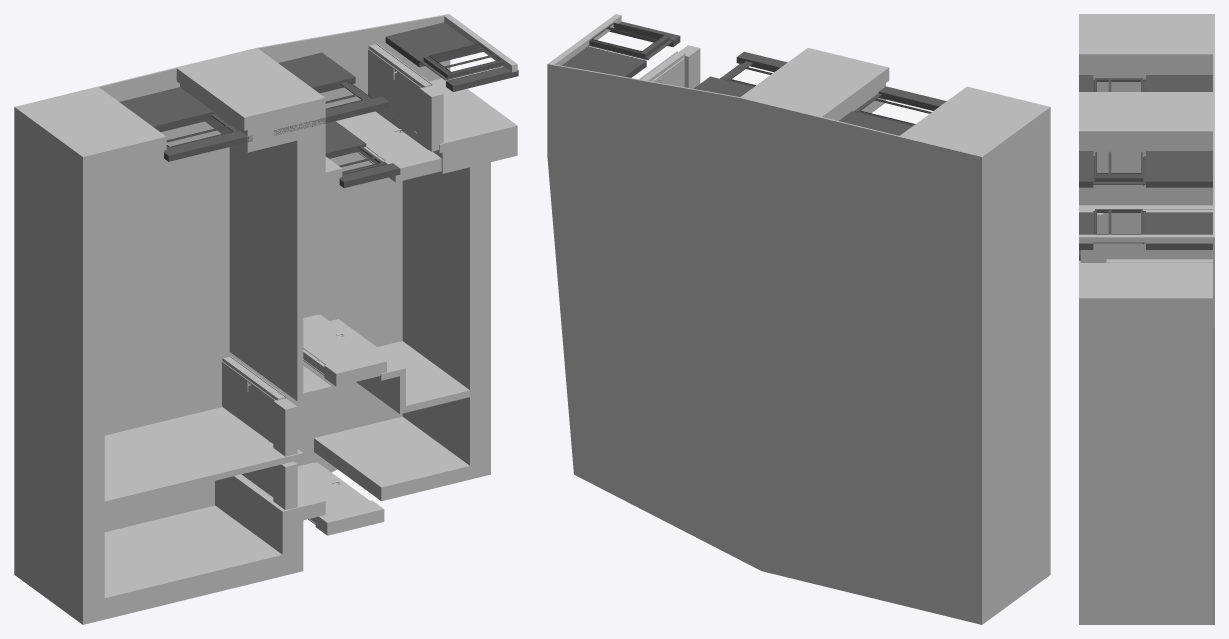
The picture shows the model from 3 angles, left to right: view 1: azimuth 30°, elevation 25°; view 2: azimuth 150°, elevation 25°; view 3: azimuth 270°, elevation 25°; orthographic projection.
Visible parts, largest first — view 1: geometry_3, geometry_4, geometry_0, geometry_2, Door_1, Door_2, Door_4, Door_3, geometry_25, geometry_28, Door_5, geometry_31 (+14 smaller); view 2: geometry_4, geometry_3, geometry_2, geometry_25, geometry_23, Door_1, geometry_28, geometry_1, geometry_26, geometry_10, geometry_31; view 3: geometry_0, geometry_2, geometry_3, Door_1, geometry_31, geometry_25, geometry_1, geometry_4, geometry_28, geometry_29, geometry_23, geometry_10 (+4 smaller).
Part boxes in pixels (left/top/right/bottom): geometry_3: left=15, top=87, right=325, bottom=624; geometry_4: left=14, top=14, right=450, bottom=574; geometry_0: left=314, top=78, right=517, bottom=501; geometry_2: left=176, top=48, right=342, bottom=401; Door_1: left=368, top=43, right=432, bottom=136; Door_2: left=222, top=356, right=286, bottom=443; Door_4: left=336, top=111, right=427, bottom=164; Door_3: left=303, top=314, right=372, bottom=375; geometry_25: left=385, top=22, right=482, bottom=67; geometry_28: left=119, top=87, right=213, bottom=128; Door_5: left=297, top=462, right=369, bottom=524; geometry_31: left=278, top=52, right=355, bottom=89; geometry_4: left=547, top=63, right=982, bottom=624; geometry_3: left=900, top=86, right=1050, bottom=623; geometry_2: left=741, top=48, right=889, bottom=120; geometry_25: left=562, top=46, right=646, bottom=77; geometry_23: left=588, top=22, right=673, bottom=60; Door_1: left=639, top=51, right=685, bottom=87; geometry_28: left=839, top=111, right=912, bottom=135; geometry_1: left=548, top=14, right=621, bottom=65; geometry_26: left=854, top=93, right=937, bottom=125; geometry_10: left=678, top=45, right=700, bottom=88; geometry_31: left=693, top=76, right=753, bottom=96; geometry_0: left=1079, top=260, right=1212, bottom=624; geometry_2: left=1079, top=92, right=1212, bottom=212; geometry_3: left=1079, top=14, right=1212, bottom=91; Door_1: left=1102, top=208, right=1212, bottom=262; geometry_31: left=1146, top=151, right=1212, bottom=187; geometry_25: left=1146, top=212, right=1212, bottom=249; geometry_1: left=1079, top=234, right=1212, bottom=244; geometry_4: left=1213, top=14, right=1214, bottom=624; geometry_28: left=1146, top=75, right=1212, bottom=91; geometry_29: left=1093, top=151, right=1145, bottom=185; geometry_23: left=1093, top=209, right=1145, bottom=243; geometry_10: left=1080, top=208, right=1104, bottom=262.
Bounding box in the file's own units: 74.5 × 76.45 × 20.3.
